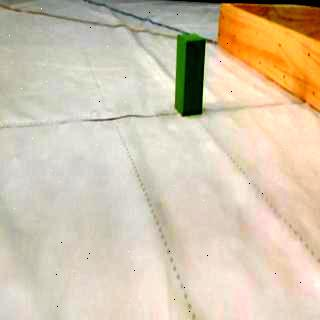greenbox: (175, 34, 208, 116)
